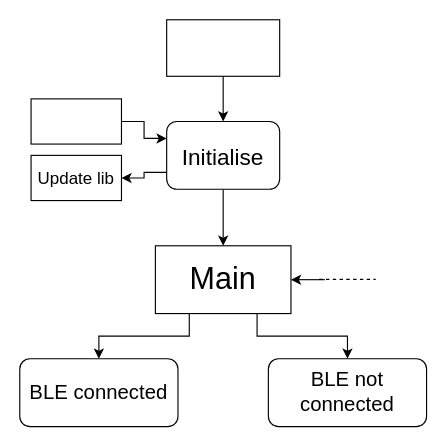
This 446x446 diagram has some shape labels left out. Here are the shapes that lost their labels. From the top down, the box of each, then its label:
(166, 19, 280, 76): Power on
(30, 98, 121, 144): EEPROM
